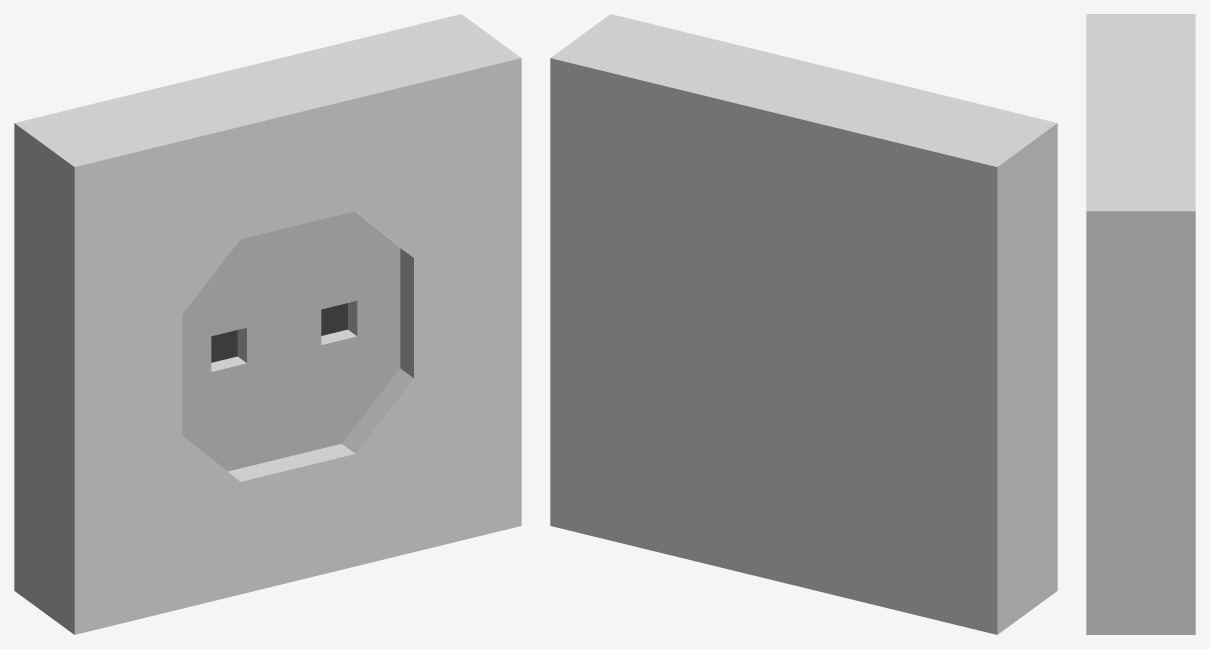
Rendered from Socket1_C1.fbx.
The picture shows the model from 3 angles, left to right: view 1: azimuth 30°, elevation 25°; view 2: azimuth 150°, elevation 25°; view 3: azimuth 270°, elevation 25°; orthographic projection. The views are drawn at different scales.
Parts seen in each view (by area): view 1: Socket1_C1; view 2: Socket1_C1; view 3: Socket1_C1.
Part boxes in pixels (bbox=[...]): Socket1_C1: bbox=[14, 14, 521, 634]; Socket1_C1: bbox=[550, 14, 1057, 634]; Socket1_C1: bbox=[1086, 14, 1195, 634].
Size of the model in its own units: 8.44 by 8.44 by 1.97.
